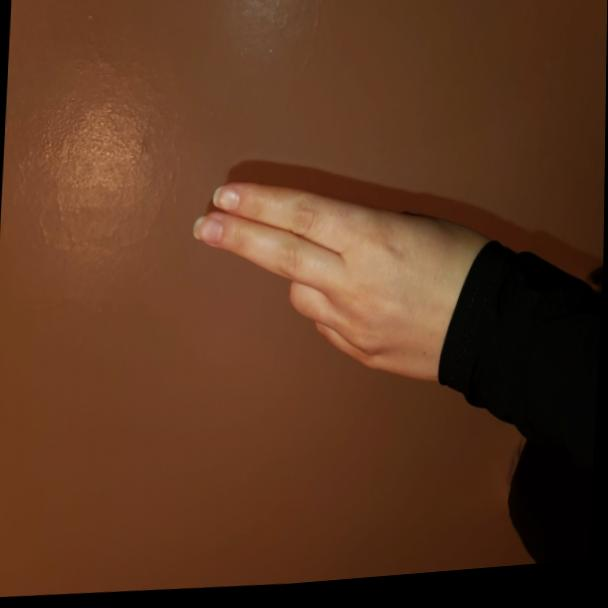two: (184, 129, 484, 410)
